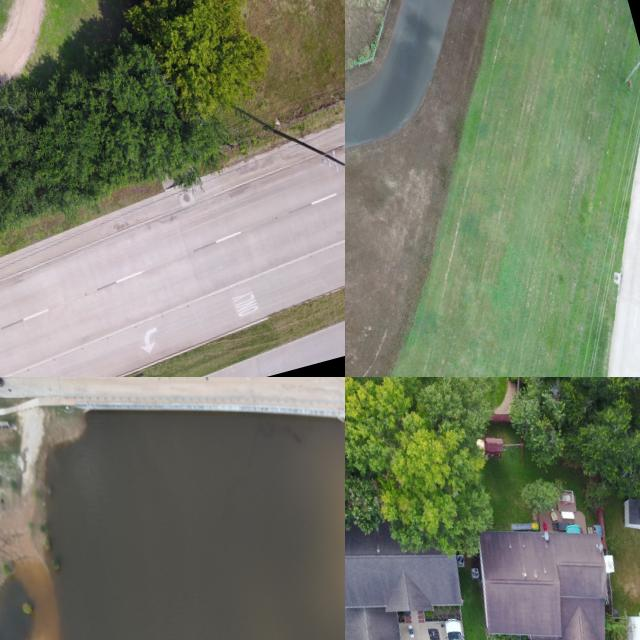fire: (47, 410, 345, 640), (345, 0, 453, 148)
